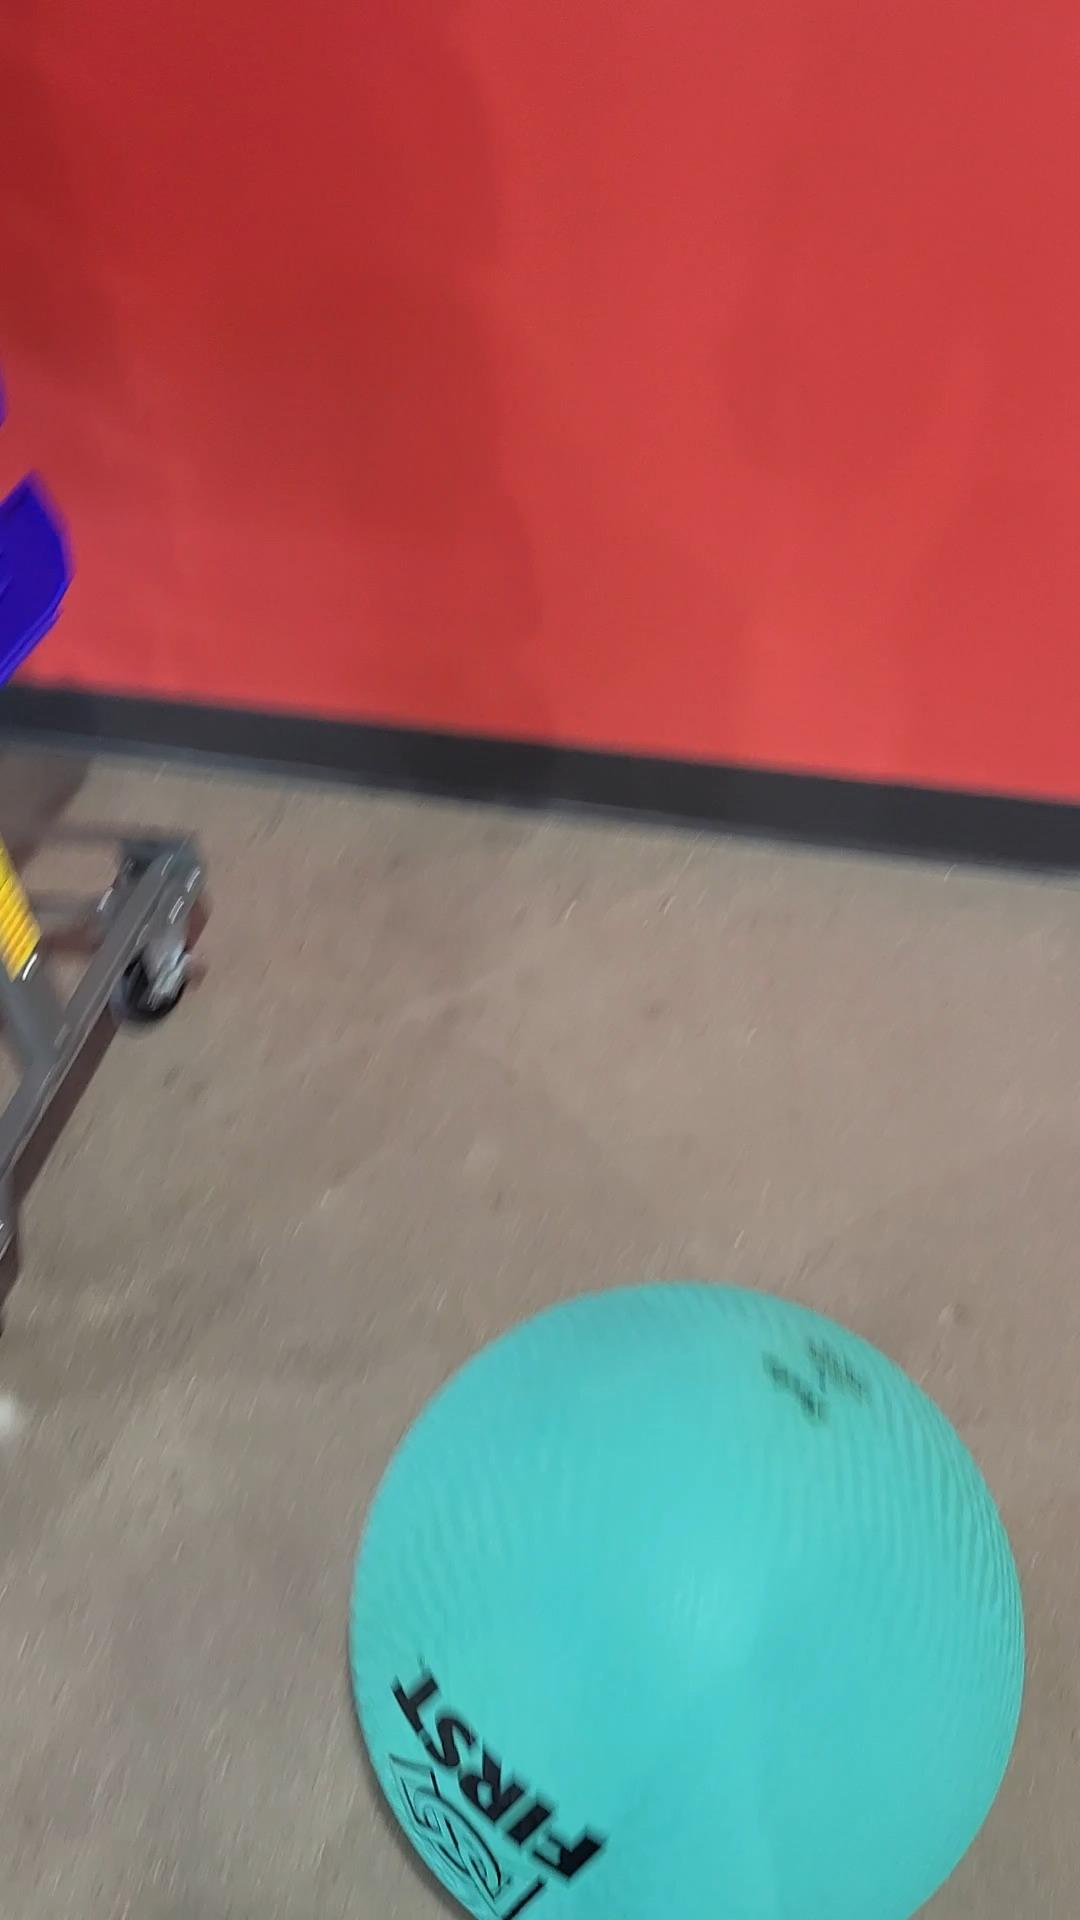algae: (361, 1276, 1022, 1920)
